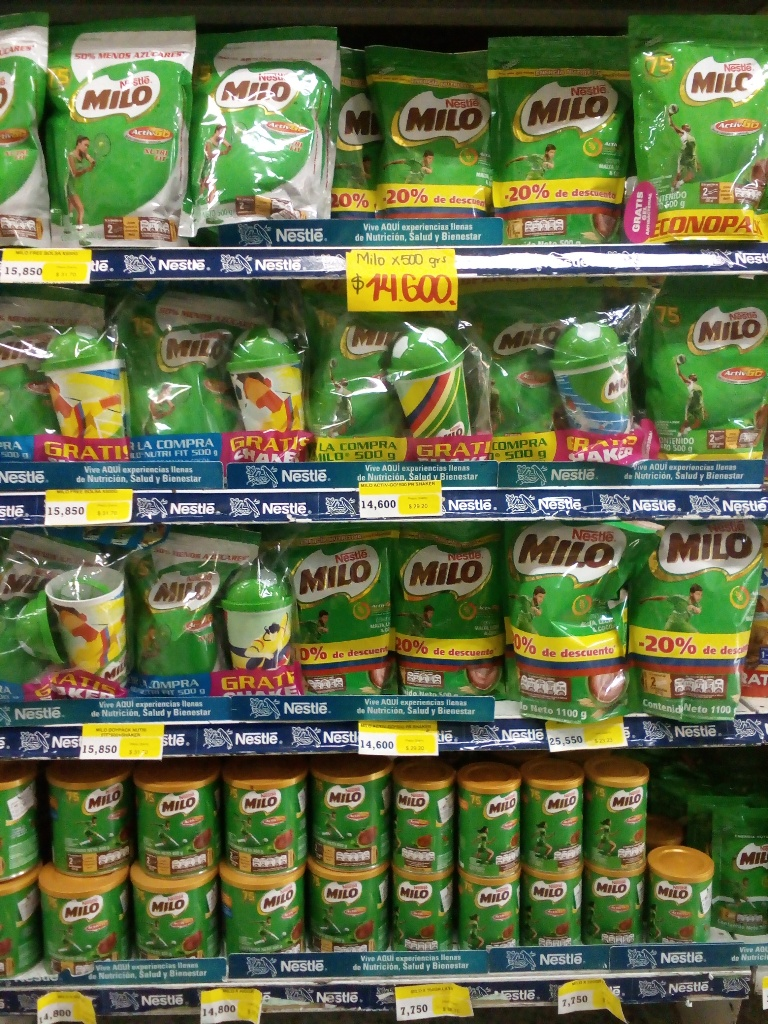COL0170203DYP10000: (709, 811, 768, 939)
COL0170203DYP50000: (312, 301, 425, 488)
COL0170203LAT20000: (389, 861, 457, 975)
COL0170203LAT40000: (318, 749, 388, 871)
COL0170205DYP50000: (122, 528, 228, 696)
